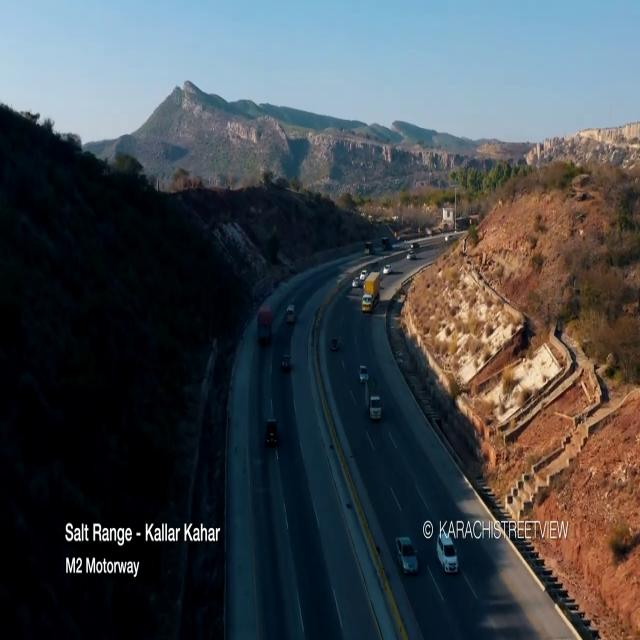car: (392, 526, 422, 580), (435, 522, 459, 578), (261, 415, 284, 452), (281, 350, 294, 377)
truck: (363, 374, 387, 426)
